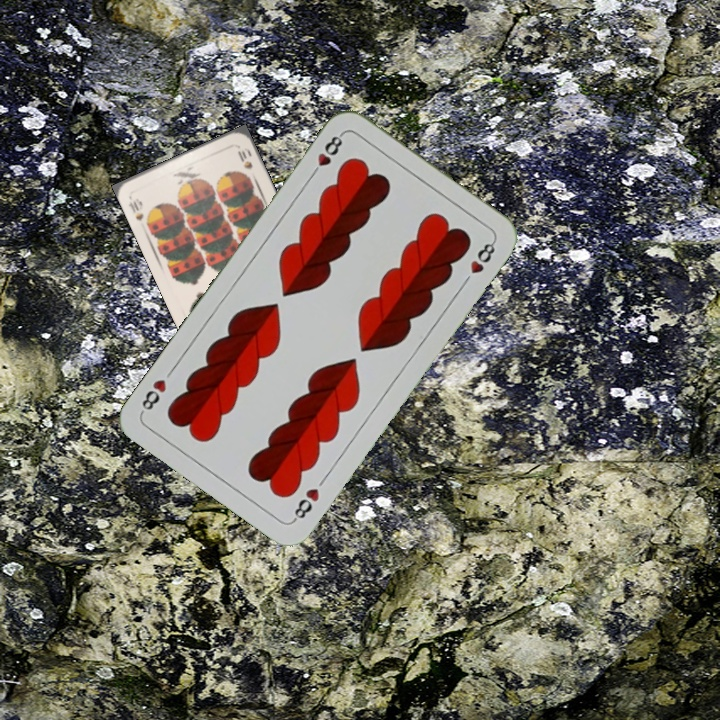H8: (306, 129, 346, 180), (289, 484, 322, 524)
S10: (124, 194, 153, 229)
